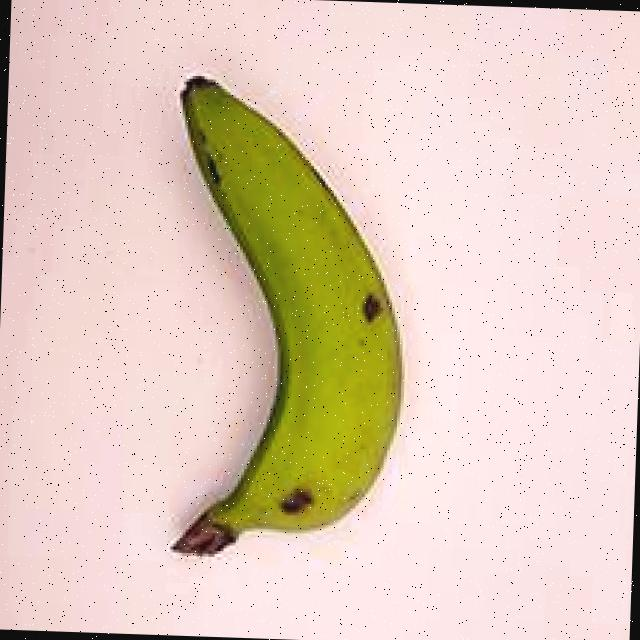Raw: (126, 49, 444, 598)
